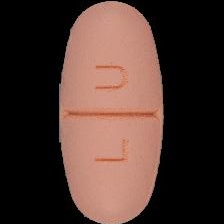35356-621: (0, 0, 224, 224)
